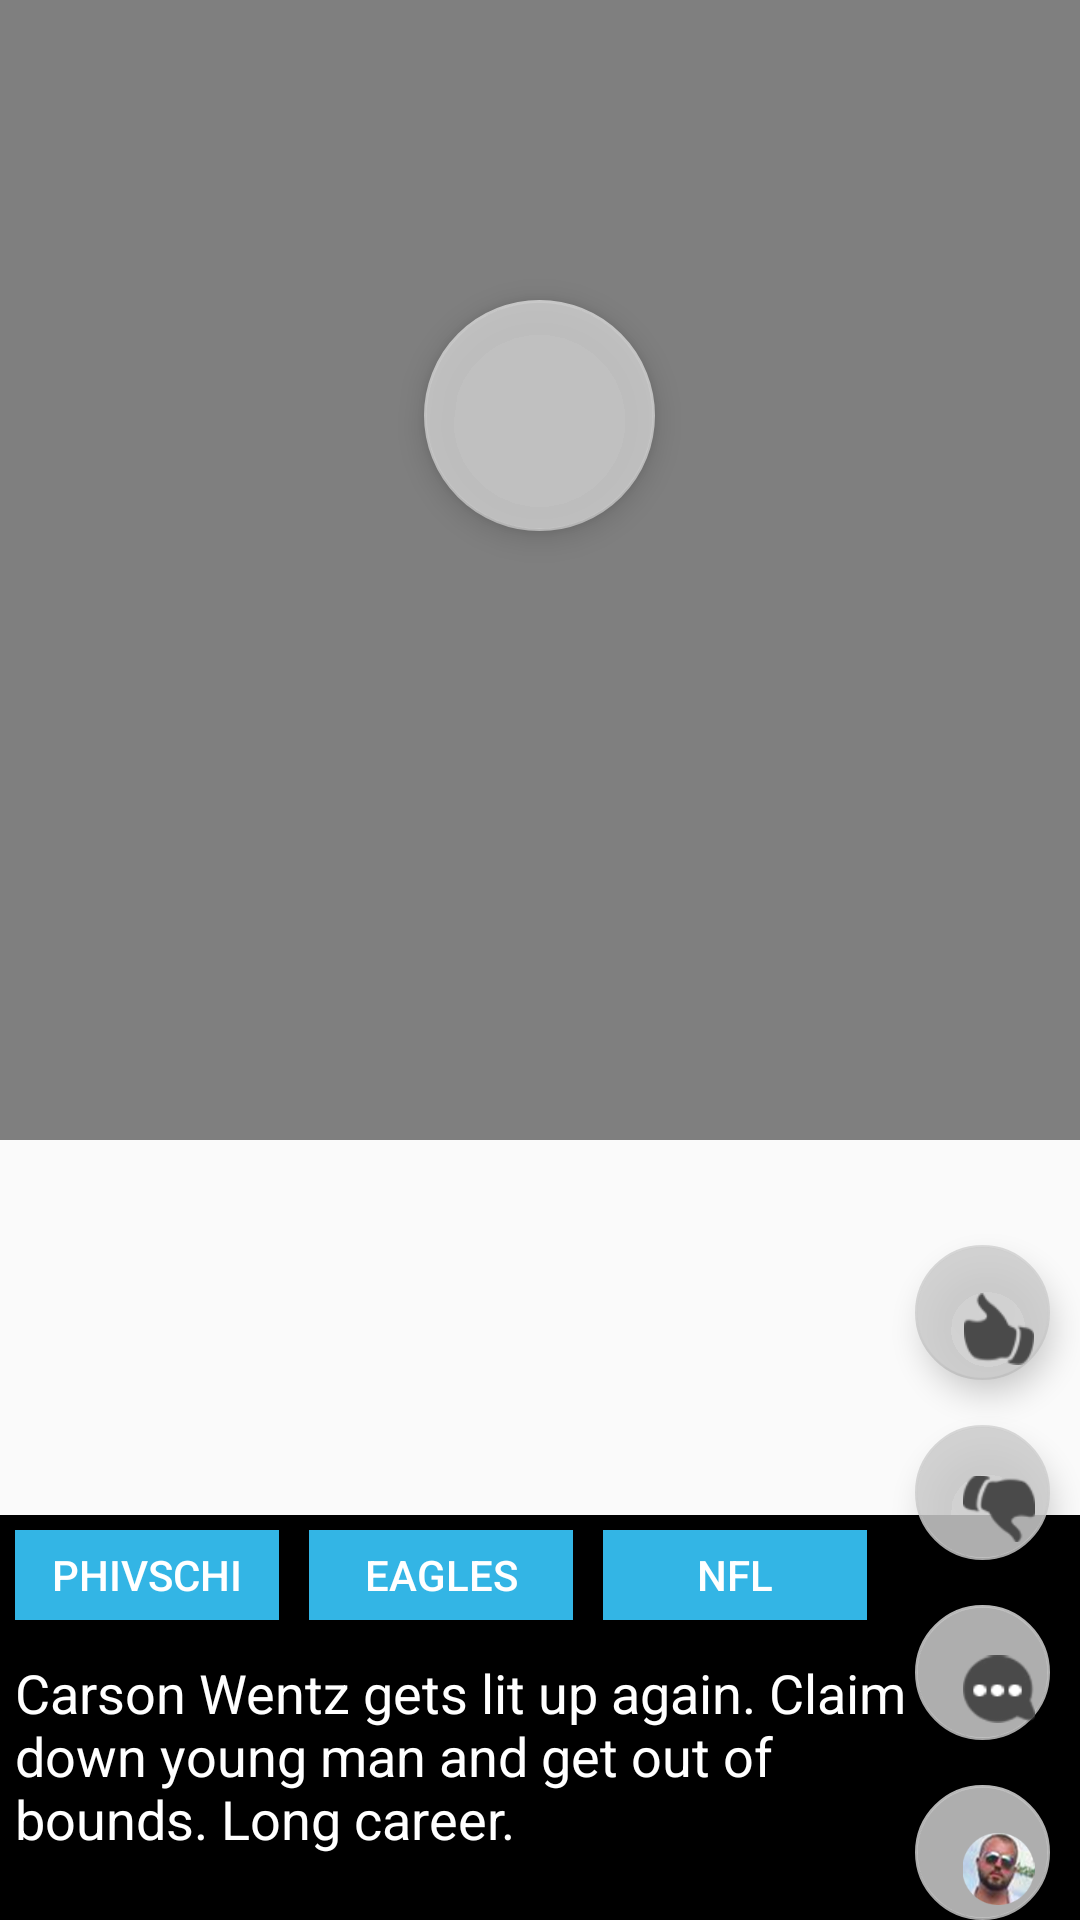

Where to tap for icons on this 1080 x 1920 app screen, as (x=x, y=y):
comment: (x=982, y=1672)
dislike: (x=982, y=1492)
like: (x=982, y=1312)
profileface: (x=982, y=1852)
